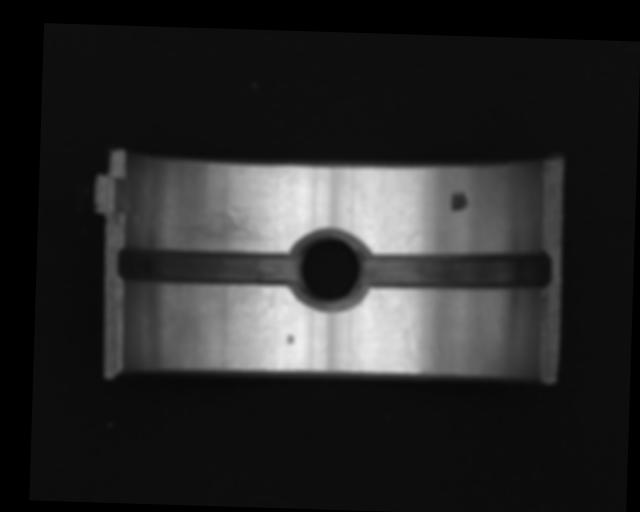blot: (449, 190, 469, 213)
bruise: (286, 333, 294, 346)
gap: (358, 247, 550, 292), (117, 246, 300, 287)
hole: (290, 228, 365, 311)
nick: (399, 287, 418, 350)
scratch: (168, 205, 282, 246)
